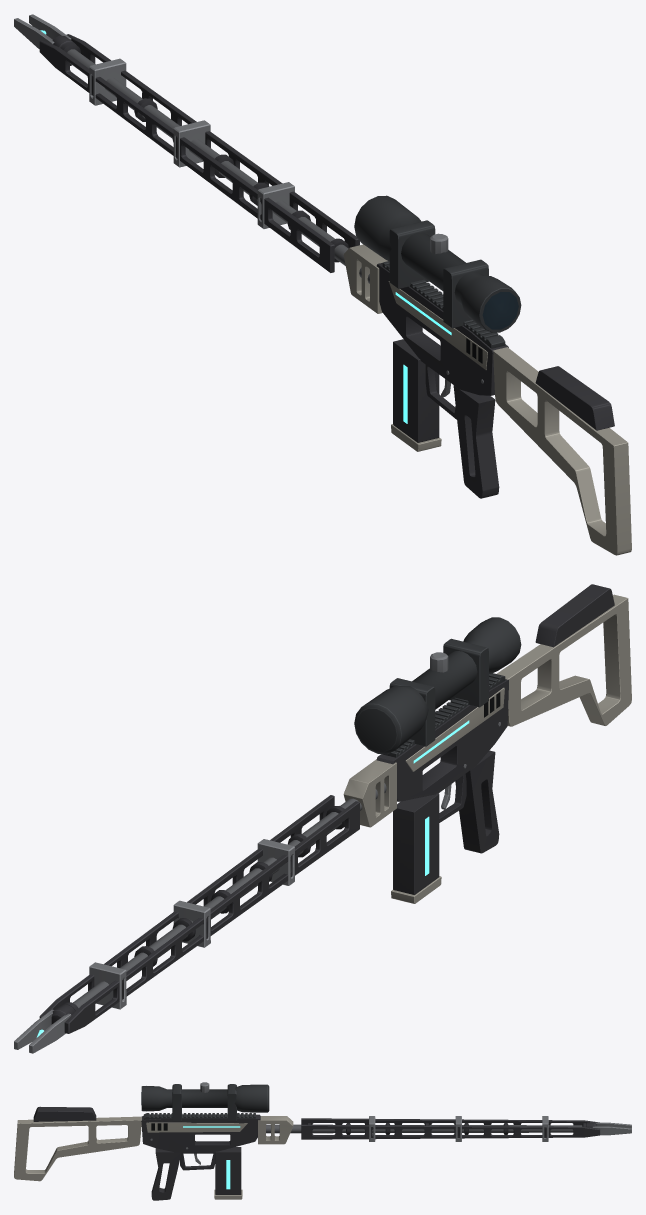
The model's file is e_rail.glb.
3 renders of one model, top to bottom at view 1: azimuth 30°, elevation 25°; view 2: azimuth 150°, elevation 25°; view 3: azimuth 270°, elevation 25°, orthographic. The views are drawn at different scales.
Visible parts, largest first — view 1: Body, ThirdPersonOnly, IronSight, Cell; view 2: Body, ThirdPersonOnly, IronSight, Cell; view 3: Body, ThirdPersonOnly, IronSight, Cell.
Boxes of the visible parts, <box> form: Body: <box>14,14,508,498</box>; ThirdPersonOnly: <box>493,347,631,555</box>; IronSight: <box>354,195,521,332</box>; Cell: <box>391,339,441,451</box>; Body: <box>14,673,508,1053</box>; ThirdPersonOnly: <box>497,584,631,726</box>; IronSight: <box>354,617,521,754</box>; Cell: <box>391,793,441,903</box>; Body: <box>141,1113,631,1200</box>; ThirdPersonOnly: <box>14,1106,141,1181</box>; IronSight: <box>141,1082,269,1121</box>; Cell: <box>214,1147,242,1199</box>.
Bounding box in the file's own units: 0.072 × 0.3224 × 1.57.
